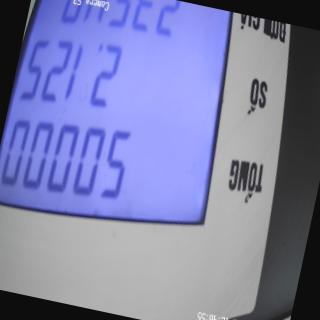screen: (0, 0, 253, 252)
